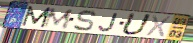J: (97, 12, 119, 33)
M: (21, 5, 53, 29), (42, 8, 75, 30)
S: (72, 9, 98, 32)
U: (119, 12, 154, 36)
X: (145, 14, 174, 39)
